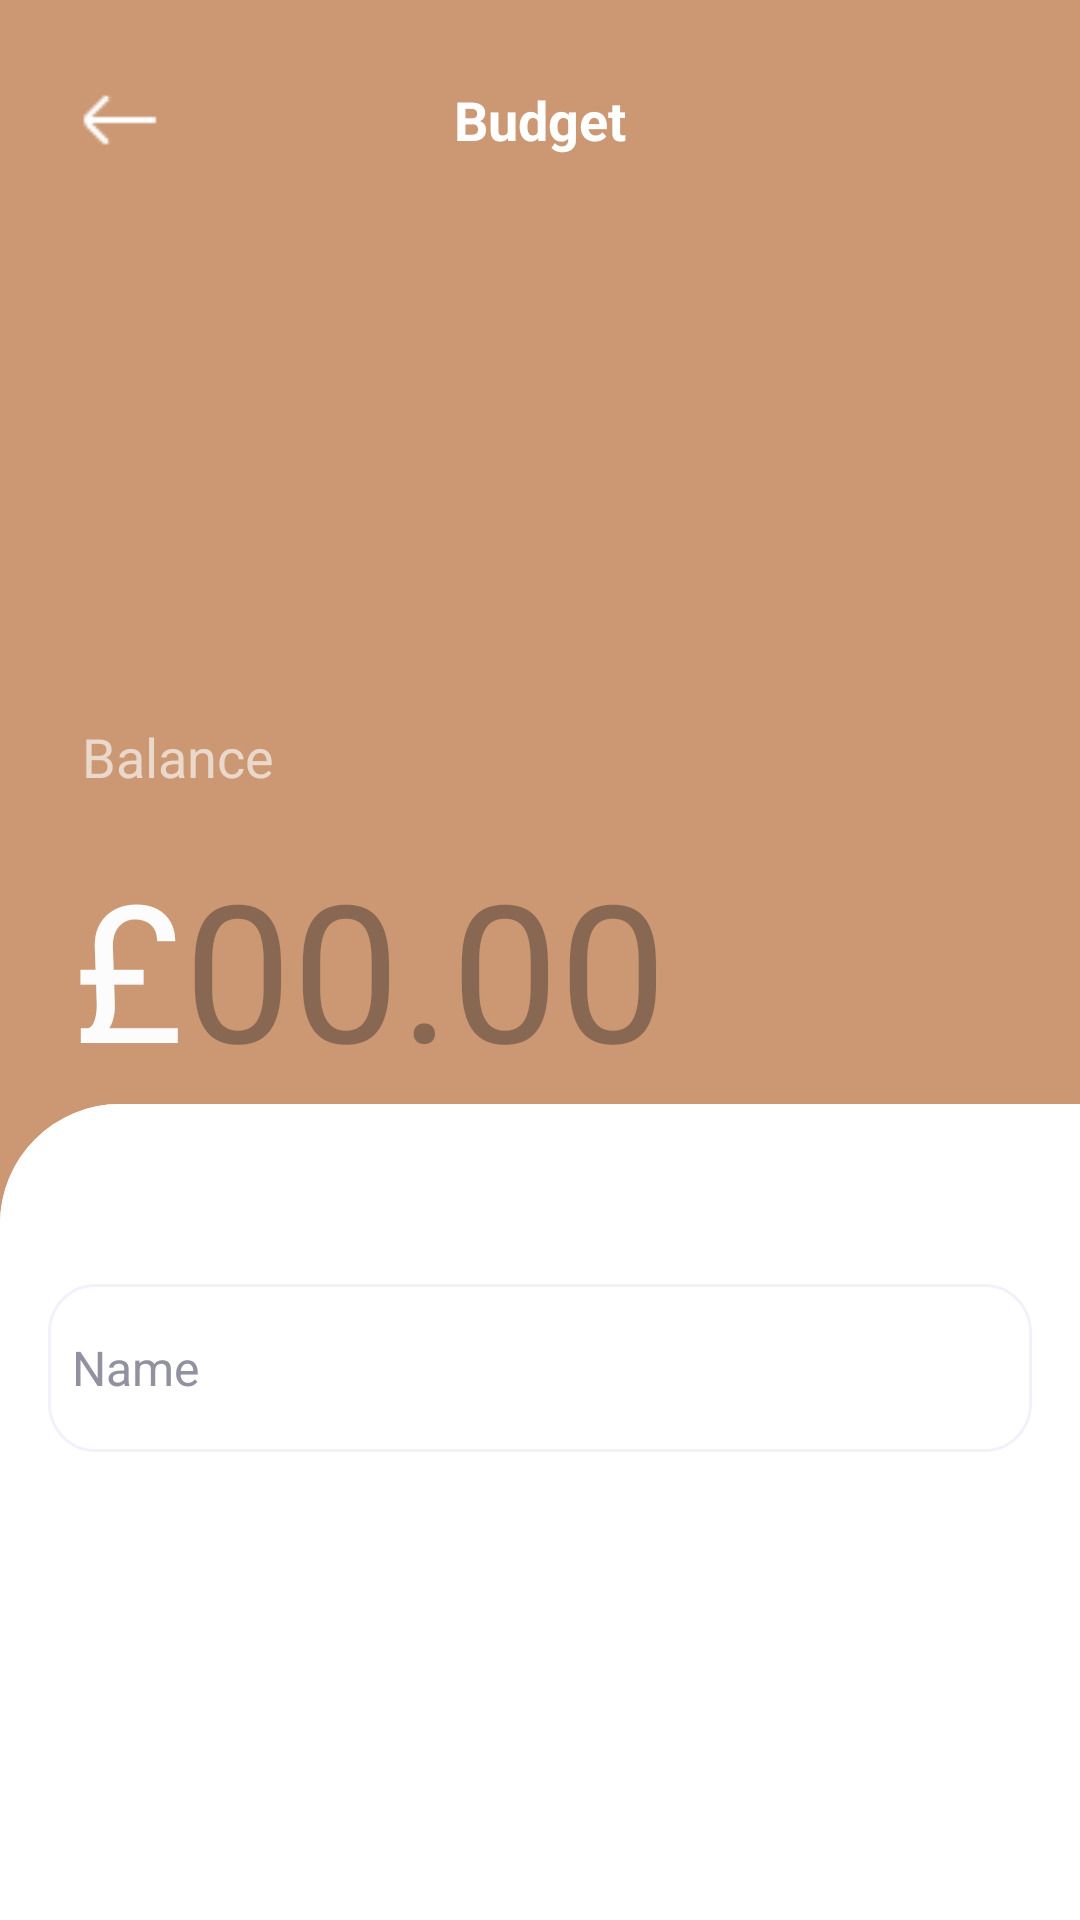

Point at icon controls on the screen. Image size 1080x1920, points as [x,y].
arrow: [120,120]
